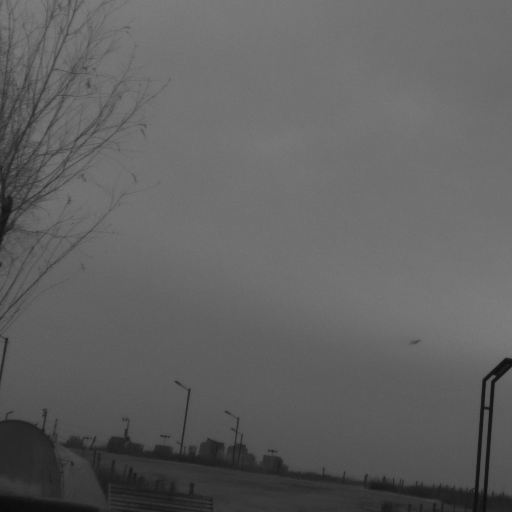uav: (410, 339, 421, 345)
